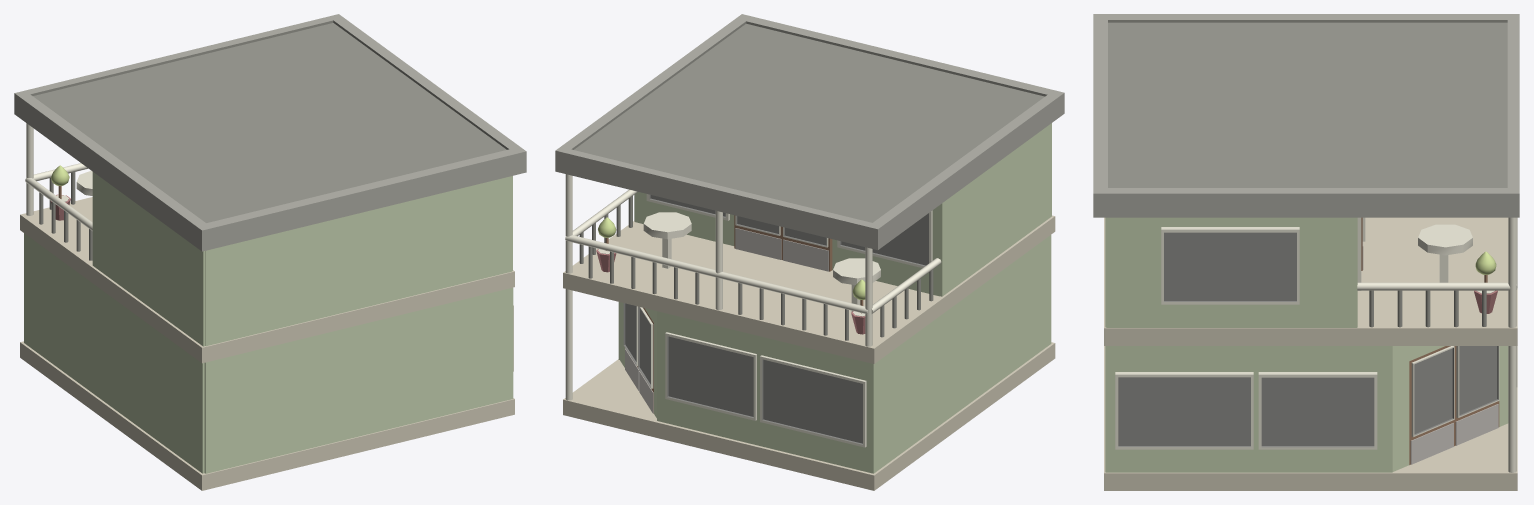
Rendered from house30.fbx.
The picture shows the model from 3 angles, left to right: view 1: azimuth 30°, elevation 25°; view 2: azimuth 150°, elevation 25°; view 3: azimuth 270°, elevation 25°; orthographic projection. The views are drawn at different scales.
Parts seen in each view (by area): view 1: sd; view 2: sd; view 3: sd.
Part boxes in pixels (bbox=[...]): sd: bbox=[14, 14, 526, 490]; sd: bbox=[555, 14, 1064, 490]; sd: bbox=[1093, 14, 1519, 490].
Bounding box in the file's own units: 1147 × 896 × 1150.
